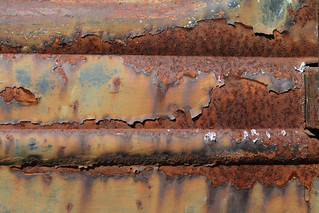rust: (177, 81, 318, 190), (47, 36, 311, 76), (2, 84, 36, 110)
